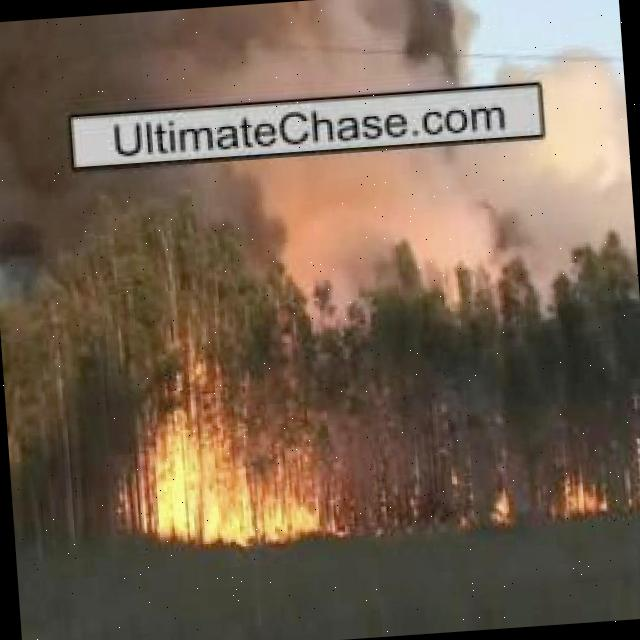fire: (111, 382, 332, 551), (555, 467, 613, 520), (484, 482, 520, 522)
